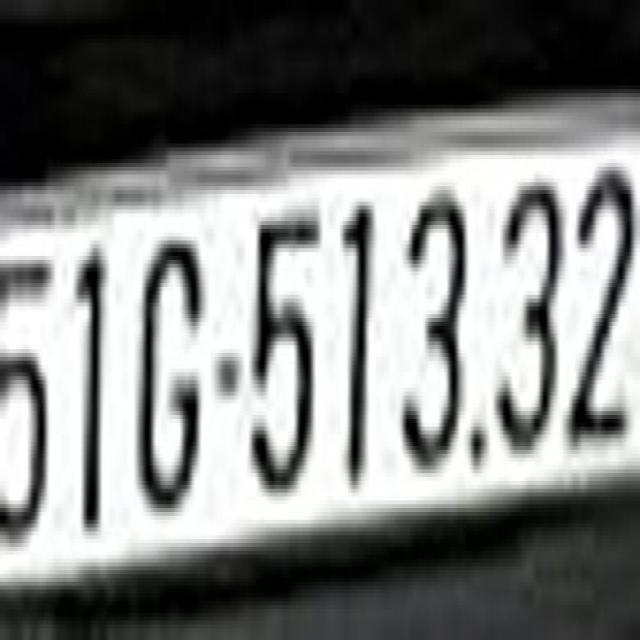1: (339, 190, 372, 469), (74, 237, 102, 539)
2: (576, 167, 633, 454)
3: (497, 166, 558, 458), (405, 171, 458, 477)
5: (256, 210, 318, 504), (1, 256, 52, 547)
G: (139, 237, 200, 528)
